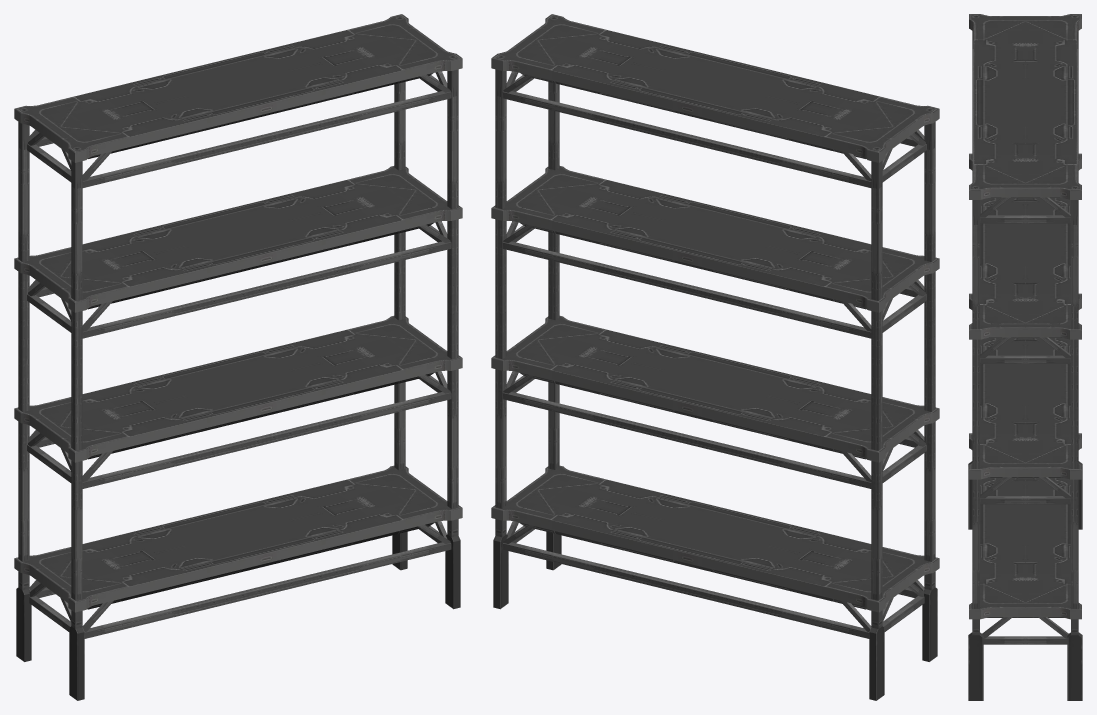
The model's file is Shelves WideTall.glb.
The picture shows the model from 3 angles, left to right: view 1: azimuth 30°, elevation 25°; view 2: azimuth 150°, elevation 25°; view 3: azimuth 270°, elevation 25°; orthographic projection. The views are drawn at different scales.
Parts seen in each view (by area): view 1: Prop_Shelves_WideTall; view 2: Prop_Shelves_WideTall; view 3: Prop_Shelves_WideTall.
Part boxes in pixels (box(x1,y1,x2,y2)): Prop_Shelves_WideTall: box(14, 14, 462, 700); Prop_Shelves_WideTall: box(491, 14, 939, 700); Prop_Shelves_WideTall: box(968, 14, 1082, 700).
Bounding box in the file's own units: 1.98 × 2.67 × 0.5407.
1 material, 1 textured.
